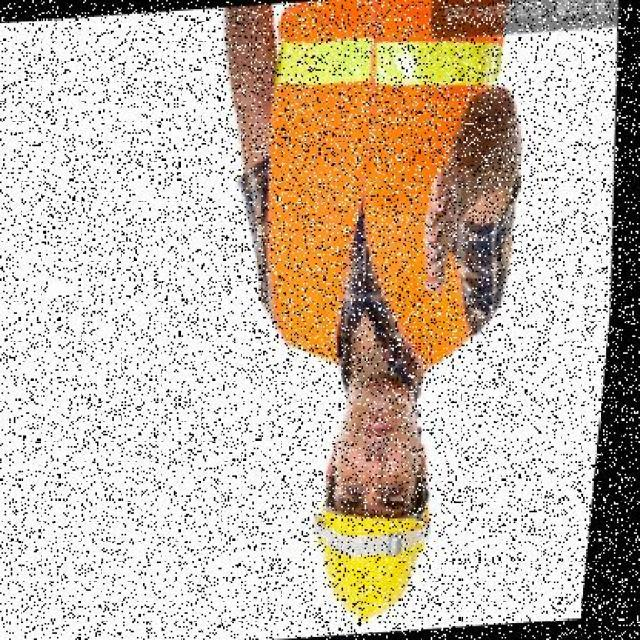helmet: (317, 491, 442, 620)
vest: (238, 0, 514, 372)
